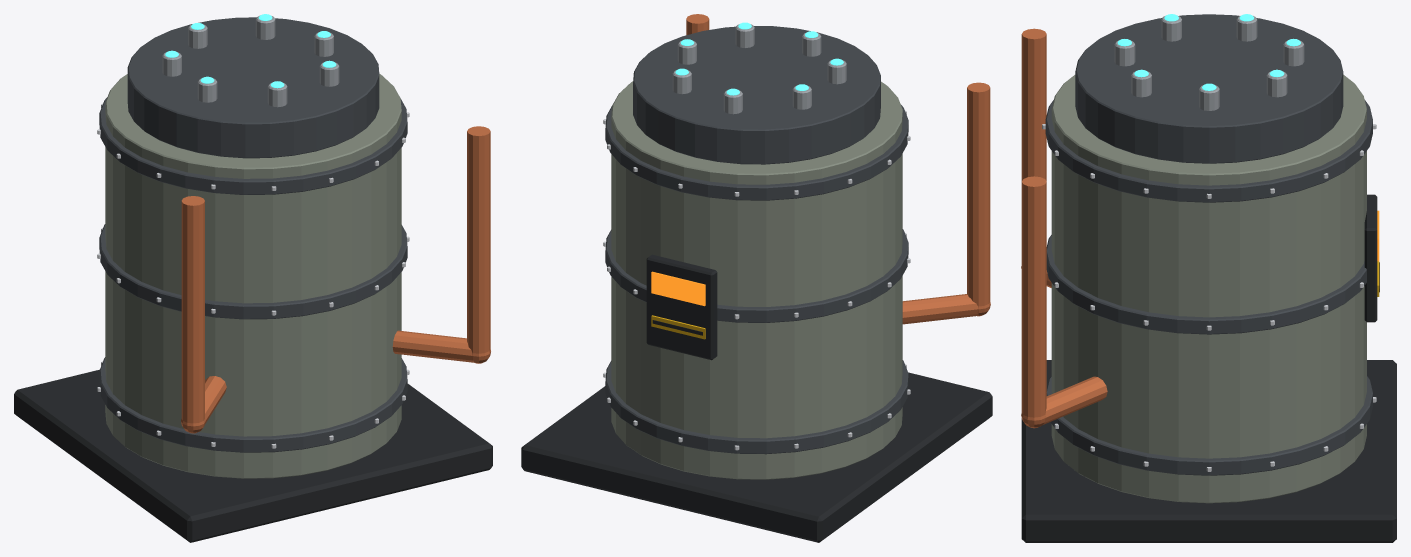
The model's file is fission_pile.glb.
3 renders of one model, left to right at view 1: azimuth 30°, elevation 25°; view 2: azimuth 150°, elevation 25°; view 3: azimuth 270°, elevation 25°, orthographic. The views are drawn at different scales.
Visible parts, largest first — view 1: fission_pile; view 2: fission_pile; view 3: fission_pile.
Part boxes in pixels (x1,y1,x2,y2): fission_pile: (14,14,492,542); fission_pile: (521,14,992,542); fission_pile: (1021,14,1396,542).
Size of the model in its own units: 1.8 by 2.2 by 1.8.
